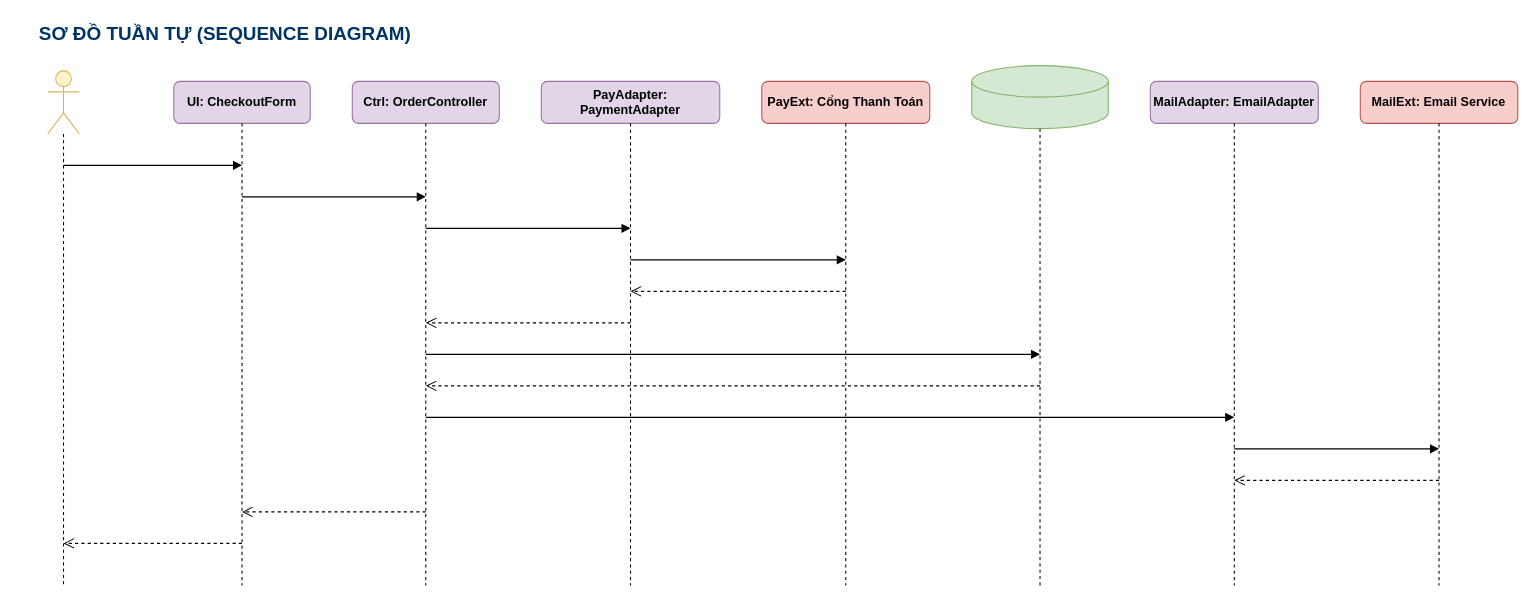
Image size: 1536x605. Some labels were removed from this diagram. The centre of each missing label's shape, as x and y in pixels:
"DB: SQL Server DB" belongs at (1039,97).
"KH: Khách hàng" belongs at (63,102).
